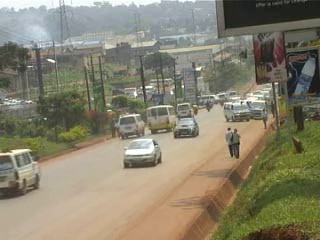Car: (119, 136, 164, 172), (172, 118, 202, 139)
Motorcycle: (190, 104, 198, 116), (204, 101, 211, 112)
